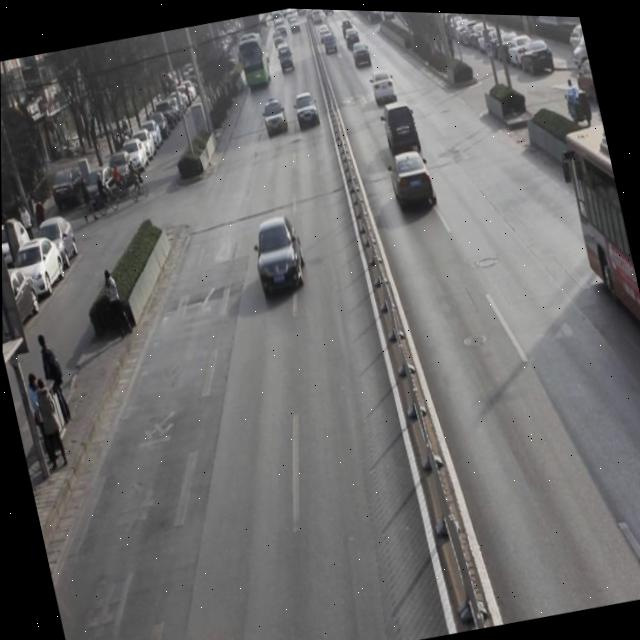car: (248, 210, 312, 297), (384, 143, 439, 213), (377, 94, 423, 154), (291, 87, 322, 127), (260, 93, 290, 134), (369, 65, 399, 102)
truck: (275, 39, 297, 74)
van: (560, 116, 640, 401)
